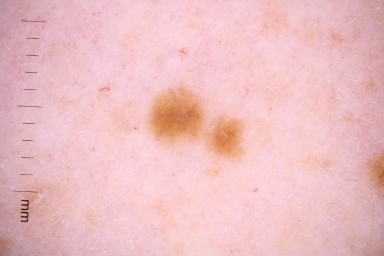nevus: (153, 92, 204, 143), (211, 116, 247, 155)
